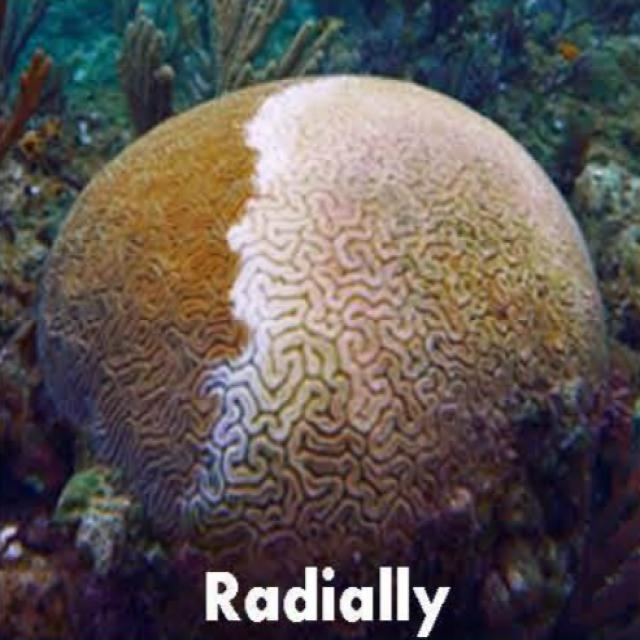Coral: (35, 75, 610, 582)
